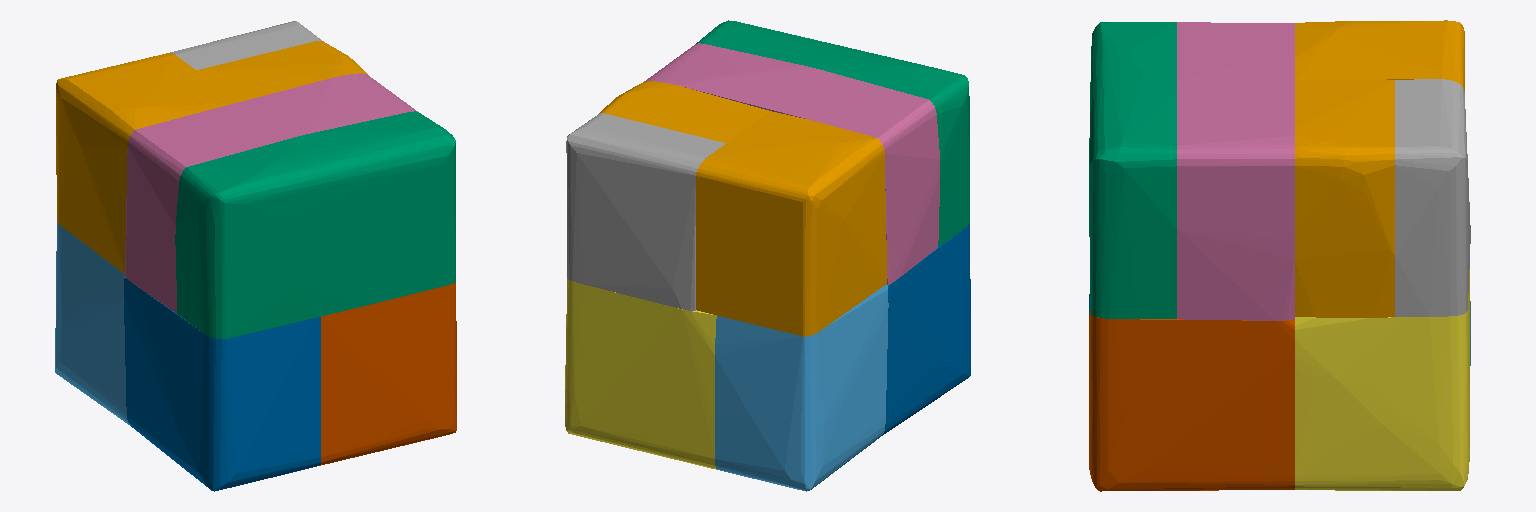
The robot description file, URDF, robot "root":
<?xml version='1.0' encoding='UTF-8'?>
<robot name="root">
  <link name="link_convex_piece_000.obj">
    <inertial>
      <origin xyz="0 0 0" rpy="0 0 0"/>
    </inertial>
    <visual>
      <origin xyz="0 0 0" rpy="0 0 0"/>
      <geometry>
        <mesh filename="meshes/convex_piece_000.obj" scale="1.0 1.0 1.0"/>
      </geometry>
    </visual>
    <collision>
      <origin xyz="0 0 0" rpy="0 0 0"/>
      <geometry>
        <mesh filename="meshes/convex_piece_000.obj" scale="1.0 1.0 1.0"/>
      </geometry>
    </collision>
  </link>
  <link name="link_convex_piece_001.obj">
    <inertial>
      <origin xyz="0 0 0" rpy="0 0 0"/>
    </inertial>
    <visual>
      <origin xyz="0 0 0" rpy="0 0 0"/>
      <geometry>
        <mesh filename="meshes/convex_piece_001.obj" scale="1.0 1.0 1.0"/>
      </geometry>
    </visual>
    <collision>
      <origin xyz="0 0 0" rpy="0 0 0"/>
      <geometry>
        <mesh filename="meshes/convex_piece_001.obj" scale="1.0 1.0 1.0"/>
      </geometry>
    </collision>
  </link>
  <link name="link_convex_piece_002.obj">
    <inertial>
      <origin xyz="0 0 0" rpy="0 0 0"/>
    </inertial>
    <visual>
      <origin xyz="0 0 0" rpy="0 0 0"/>
      <geometry>
        <mesh filename="meshes/convex_piece_002.obj" scale="1.0 1.0 1.0"/>
      </geometry>
    </visual>
    <collision>
      <origin xyz="0 0 0" rpy="0 0 0"/>
      <geometry>
        <mesh filename="meshes/convex_piece_002.obj" scale="1.0 1.0 1.0"/>
      </geometry>
    </collision>
  </link>
  <link name="link_convex_piece_003.obj">
    <inertial>
      <origin xyz="0 0 0" rpy="0 0 0"/>
    </inertial>
    <visual>
      <origin xyz="0 0 0" rpy="0 0 0"/>
      <geometry>
        <mesh filename="meshes/convex_piece_003.obj" scale="1.0 1.0 1.0"/>
      </geometry>
    </visual>
    <collision>
      <origin xyz="0 0 0" rpy="0 0 0"/>
      <geometry>
        <mesh filename="meshes/convex_piece_003.obj" scale="1.0 1.0 1.0"/>
      </geometry>
    </collision>
  </link>
  <link name="link_convex_piece_004.obj">
    <inertial>
      <origin xyz="0 0 0" rpy="0 0 0"/>
    </inertial>
    <visual>
      <origin xyz="0 0 0" rpy="0 0 0"/>
      <geometry>
        <mesh filename="meshes/convex_piece_004.obj" scale="1.0 1.0 1.0"/>
      </geometry>
    </visual>
    <collision>
      <origin xyz="0 0 0" rpy="0 0 0"/>
      <geometry>
        <mesh filename="meshes/convex_piece_004.obj" scale="1.0 1.0 1.0"/>
      </geometry>
    </collision>
  </link>
  <link name="link_convex_piece_005.obj">
    <inertial>
      <origin xyz="0 0 0" rpy="0 0 0"/>
    </inertial>
    <visual>
      <origin xyz="0 0 0" rpy="0 0 0"/>
      <geometry>
        <mesh filename="meshes/convex_piece_005.obj" scale="1.0 1.0 1.0"/>
      </geometry>
    </visual>
    <collision>
      <origin xyz="0 0 0" rpy="0 0 0"/>
      <geometry>
        <mesh filename="meshes/convex_piece_005.obj" scale="1.0 1.0 1.0"/>
      </geometry>
    </collision>
  </link>
  <link name="link_convex_piece_006.obj">
    <inertial>
      <origin xyz="0 0 0" rpy="0 0 0"/>
    </inertial>
    <visual>
      <origin xyz="0 0 0" rpy="0 0 0"/>
      <geometry>
        <mesh filename="meshes/convex_piece_006.obj" scale="1.0 1.0 1.0"/>
      </geometry>
    </visual>
    <collision>
      <origin xyz="0 0 0" rpy="0 0 0"/>
      <geometry>
        <mesh filename="meshes/convex_piece_006.obj" scale="1.0 1.0 1.0"/>
      </geometry>
    </collision>
  </link>
  <link name="link_convex_piece_007.obj">
    <inertial>
      <origin xyz="0 0 0" rpy="0 0 0"/>
    </inertial>
    <visual>
      <origin xyz="0 0 0" rpy="0 0 0"/>
      <geometry>
        <mesh filename="meshes/convex_piece_007.obj" scale="1.0 1.0 1.0"/>
      </geometry>
    </visual>
    <collision>
      <origin xyz="0 0 0" rpy="0 0 0"/>
      <geometry>
        <mesh filename="meshes/convex_piece_007.obj" scale="1.0 1.0 1.0"/>
      </geometry>
    </collision>
  </link>
  <link name="link_convex_piece_008.obj">
    <inertial>
      <origin xyz="0 0 0" rpy="0 0 0"/>
    </inertial>
    <visual>
      <origin xyz="0 0 0" rpy="0 0 0"/>
      <geometry>
        <mesh filename="meshes/convex_piece_008.obj" scale="1.0 1.0 1.0"/>
      </geometry>
    </visual>
    <collision>
      <origin xyz="0 0 0" rpy="0 0 0"/>
      <geometry>
        <mesh filename="meshes/convex_piece_008.obj" scale="1.0 1.0 1.0"/>
      </geometry>
    </collision>
  </link>
  <joint name="link_convex_piece_001.obj_joint" type="fixed">
    <origin xyz="0 0 0" rpy="0 0 0"/>
    <parent link="link_convex_piece_000.obj"/>
    <child link="link_convex_piece_001.obj"/>
  </joint>
  <joint name="link_convex_piece_002.obj_joint" type="fixed">
    <origin xyz="0 0 0" rpy="0 0 0"/>
    <parent link="link_convex_piece_000.obj"/>
    <child link="link_convex_piece_002.obj"/>
  </joint>
  <joint name="link_convex_piece_003.obj_joint" type="fixed">
    <origin xyz="0 0 0" rpy="0 0 0"/>
    <parent link="link_convex_piece_000.obj"/>
    <child link="link_convex_piece_003.obj"/>
  </joint>
  <joint name="link_convex_piece_004.obj_joint" type="fixed">
    <origin xyz="0 0 0" rpy="0 0 0"/>
    <parent link="link_convex_piece_000.obj"/>
    <child link="link_convex_piece_004.obj"/>
  </joint>
  <joint name="link_convex_piece_005.obj_joint" type="fixed">
    <origin xyz="0 0 0" rpy="0 0 0"/>
    <parent link="link_convex_piece_000.obj"/>
    <child link="link_convex_piece_005.obj"/>
  </joint>
  <joint name="link_convex_piece_006.obj_joint" type="fixed">
    <origin xyz="0 0 0" rpy="0 0 0"/>
    <parent link="link_convex_piece_000.obj"/>
    <child link="link_convex_piece_006.obj"/>
  </joint>
  <joint name="link_convex_piece_007.obj_joint" type="fixed">
    <origin xyz="0 0 0" rpy="0 0 0"/>
    <parent link="link_convex_piece_000.obj"/>
    <child link="link_convex_piece_007.obj"/>
  </joint>
  <joint name="link_convex_piece_008.obj_joint" type="fixed">
    <origin xyz="0 0 0" rpy="0 0 0"/>
    <parent link="link_convex_piece_000.obj"/>
    <child link="link_convex_piece_008.obj"/>
  </joint>
</robot>

--- Facts derived from the render (not from the file) ---
3 views of the same robot in one strip: view 1: azimuth 30°, elevation 25°; view 2: azimuth 150°, elevation 25°; view 3: azimuth 270°, elevation 25° (orthographic).
Robot: root — 9 links, 8 joints (8 fixed); root link link_convex_piece_000.obj; default pose: every joint at zero.
Links seen in each view (by area): view 1: link_convex_piece_002.obj, link_convex_piece_004.obj, link_convex_piece_005.obj, link_convex_piece_006.obj, link_convex_piece_000.obj, link_convex_piece_001.obj, link_convex_piece_008.obj, link_convex_piece_007.obj; view 2: link_convex_piece_000.obj, link_convex_piece_001.obj, link_convex_piece_003.obj, link_convex_piece_007.obj, link_convex_piece_006.obj, link_convex_piece_004.obj, link_convex_piece_002.obj, link_convex_piece_008.obj; view 3: link_convex_piece_005.obj, link_convex_piece_006.obj, link_convex_piece_003.obj, link_convex_piece_002.obj, link_convex_piece_008.obj, link_convex_piece_007.obj, link_convex_piece_000.obj.
Link boxes in pixels (x1,y1,x2,y2): link_convex_piece_002.obj: (175,111,455,338); link_convex_piece_004.obj: (124,278,320,491); link_convex_piece_005.obj: (319,282,456,465); link_convex_piece_006.obj: (125,73,417,312); link_convex_piece_000.obj: (56,53,237,273); link_convex_piece_001.obj: (55,222,129,424); link_convex_piece_008.obj: (196,41,367,101); link_convex_piece_007.obj: (170,21,321,69); link_convex_piece_000.obj: (696,111,886,336); link_convex_piece_001.obj: (715,284,888,491); link_convex_piece_003.obj: (565,278,716,469); link_convex_piece_007.obj: (566,113,725,310); link_convex_piece_006.obj: (644,43,939,284); link_convex_piece_004.obj: (882,224,970,435); link_convex_piece_002.obj: (696,20,969,246); link_convex_piece_008.obj: (599,81,770,142); link_convex_piece_005.obj: (1089,310,1294,491); link_convex_piece_006.obj: (1177,22,1294,320); link_convex_piece_003.obj: (1295,269,1469,490); link_convex_piece_002.obj: (1089,22,1176,318); link_convex_piece_008.obj: (1295,80,1394,317); link_convex_piece_007.obj: (1395,79,1470,316); link_convex_piece_000.obj: (1295,20,1464,90).
Bounding box of the posed robot: 0.065 × 0.075 × 0.075 m (x, y, z).
Meshes: 9 distinct files referenced, 9 mesh visuals loaded (9 OBJ).
